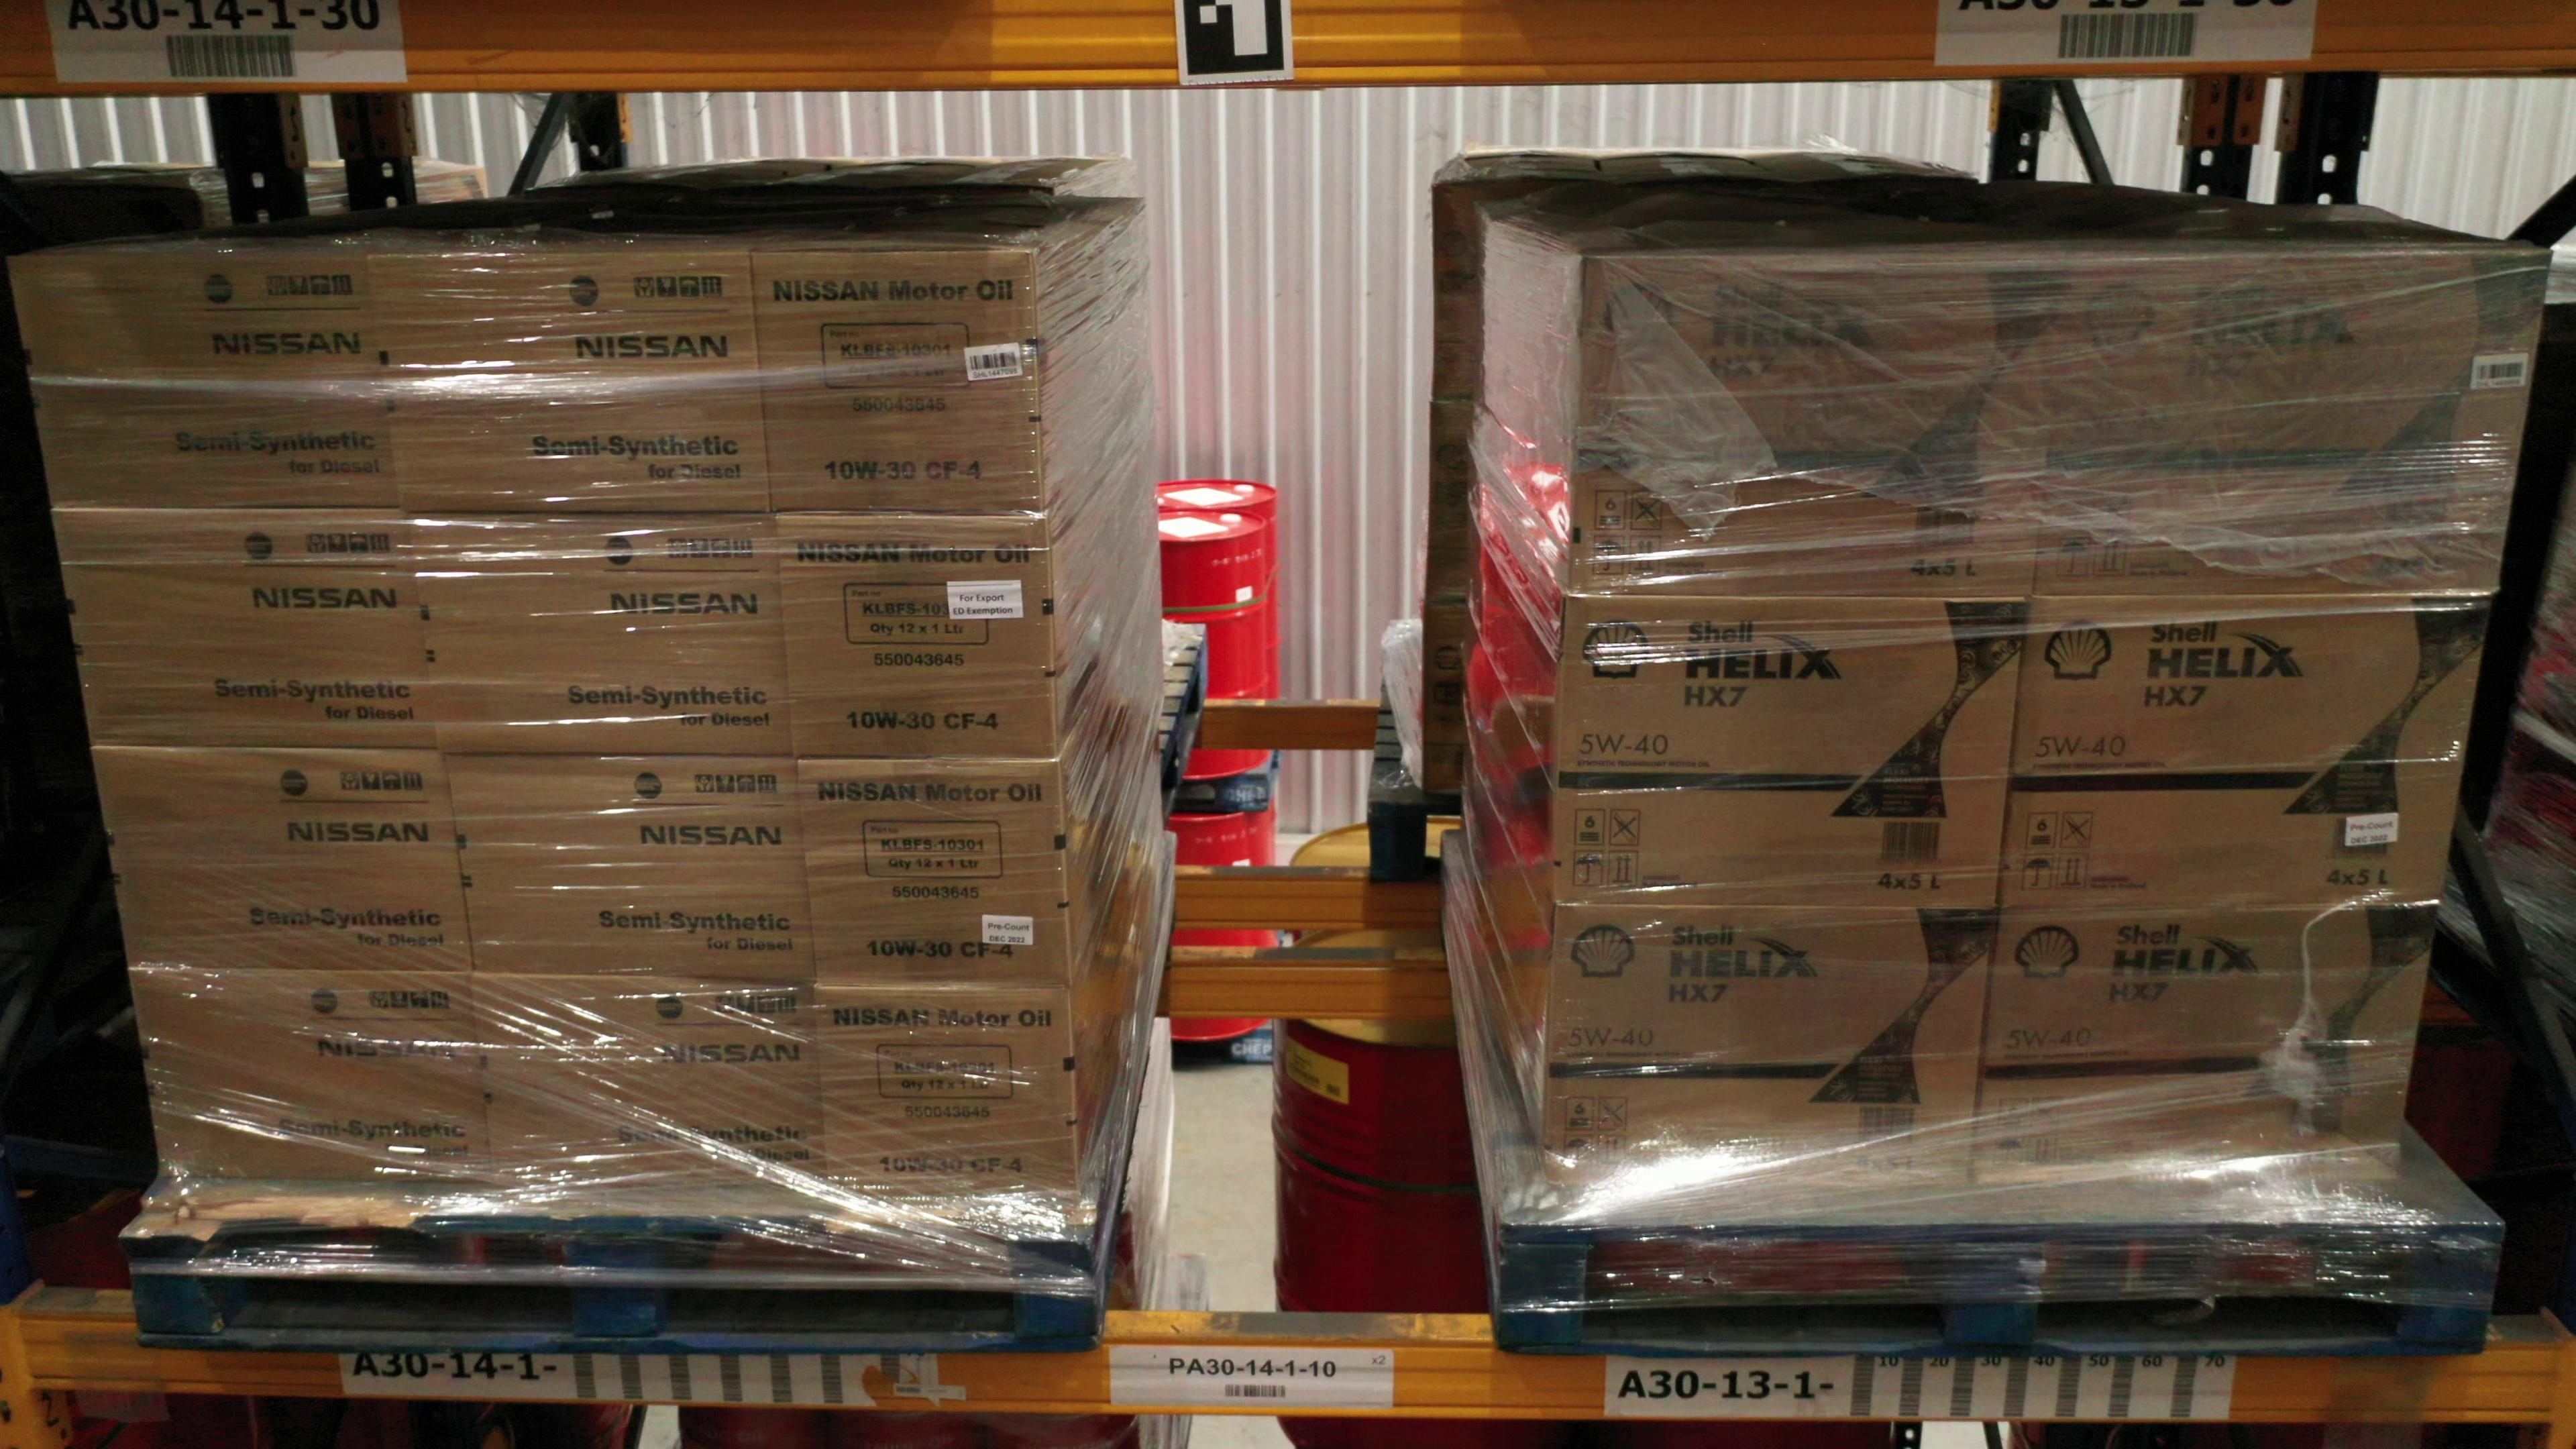-: (2031, 248, 2553, 596), (1564, 241, 2063, 594), (2003, 598, 2486, 911), (1550, 594, 2028, 906), (1539, 901, 1992, 1198), (1973, 906, 2434, 1182), (372, 237, 770, 513), (16, 237, 403, 508), (55, 508, 433, 745), (412, 518, 789, 755), (96, 745, 472, 971), (448, 755, 816, 982), (755, 237, 1047, 513), (131, 966, 494, 1182), (472, 971, 824, 1182), (775, 513, 1062, 759), (794, 759, 1072, 982), (816, 985, 1077, 1182)
